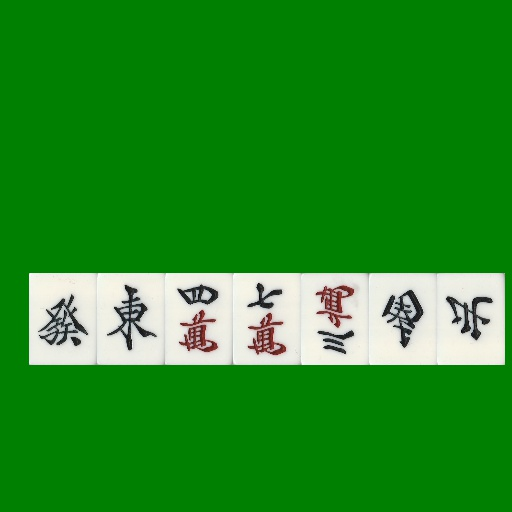3m: (301, 273, 369, 365)
4m: (165, 273, 233, 365)
7m: (233, 273, 301, 365)
east: (97, 273, 165, 365)
hatsu: (29, 273, 97, 365)
north: (437, 273, 505, 365)
south: (369, 273, 437, 365)
